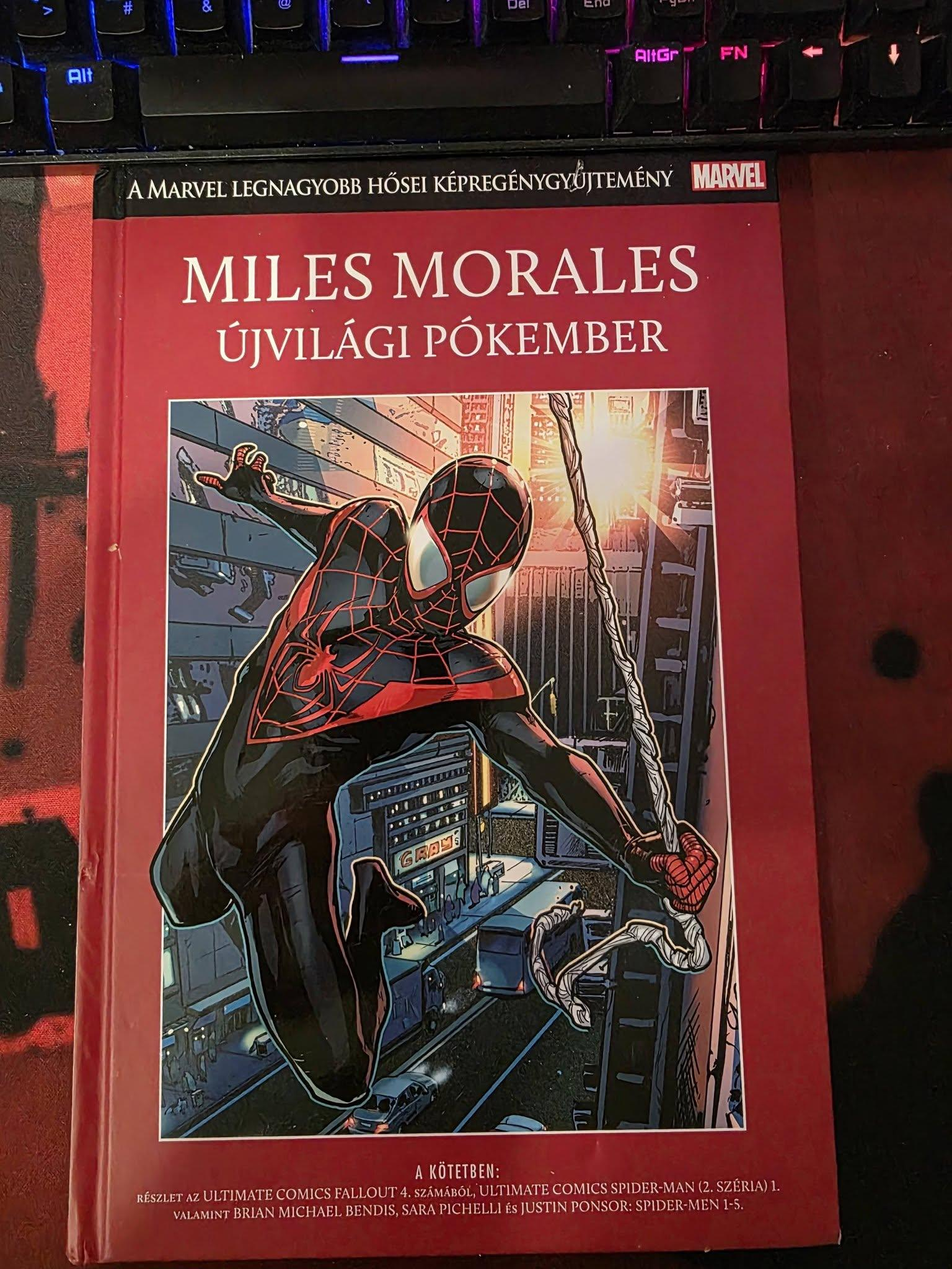comic: (42, 147, 837, 1264)
